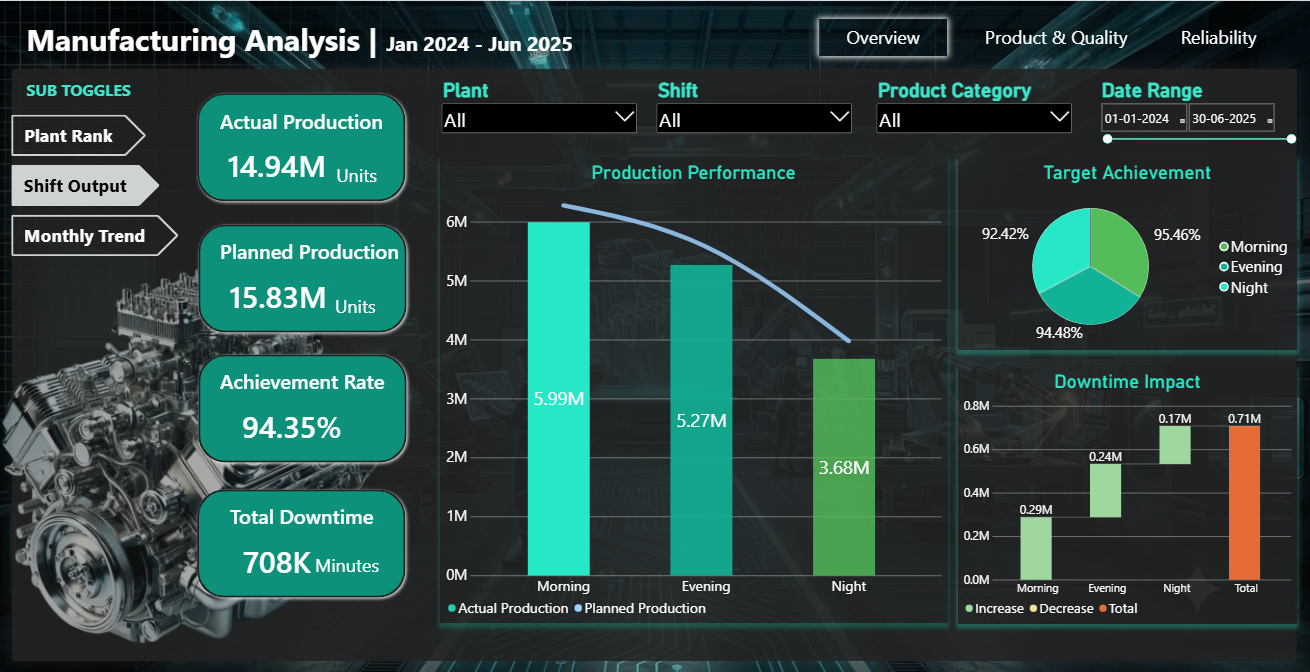

What the dashboard file says about the page in this screenshot:
{"tool":"powerbi","page":{"name":"Overview","canvas":[3500,1800],"ordinal":1},"visuals":[{"type":"textbox","box":[70,46.7,1483.3,133.3],"z":0},{"type":"shape","box":[30,180,3430,1580],"z":1000},{"type":"actionButton","title":"Overview on","box":[2183.3,46.7,343.3,100],"z":3000},{"type":"actionButton","title":"pro & qua off","box":[2553.3,46.7,526.7,100],"z":5000},{"type":"actionButton","title":"reliability off","box":[3080,46.7,340,100],"z":7000},{"type":"textbox","box":[70,206.7,320,96.7],"z":8000},{"type":"actionButton","title":"Plank rank off","box":[30,303.3,360,110],"z":10000},{"type":"actionButton","title":"Shift output off","box":[30,436.7,396.7,110],"z":12000},{"type":"image","box":[0,626.7,1023.3,1173.3],"z":13000},{"type":"actionButton","title":"Monthly trend on","box":[30,570,446.7,110],"z":14000},{"type":"shape","box":[517.3,582,580,313.3],"z":16000},{"type":"textbox","box":[587.3,628.7,510,80],"z":17000},{"type":"cardVisual","fields":{"Data":["production measures.Planned Production"]},"box":[587.3,708.7,310,150],"z":18000},{"type":"textbox","box":[893.3,780,253.3,80],"z":19000},{"type":"shape","box":[517.3,931.3,580,313.3],"z":20000},{"type":"textbox","box":[587.3,978,510,80],"z":21000},{"type":"cardVisual","fields":{"Data":["production measures.Achievement Rate"]},"box":[586.7,1056.7,383.3,150],"z":22000},{"type":"shape","box":[514.7,1288.7,580,313.3],"z":23000},{"type":"textbox","box":[613.3,1336.7,510,80],"z":24000},{"type":"cardVisual","fields":{"Data":["downtime_measures.Total Downtime Minutes"]},"box":[584.7,1415.3,310,150],"z":25000},{"type":"textbox","box":[841.3,1468.7,253.3,80],"z":26000},{"type":"shape","box":[513.3,233.3,580,313.3],"z":27000},{"type":"textbox","box":[586.7,283.3,480,80],"z":28000},{"type":"cardVisual","fields":{"Data":["production measures.Actual Production"]},"box":[563.3,360,350,150],"z":29000},{"type":"textbox","box":[896.7,430,253.3,80],"z":30000},{"type":"slicer","title":"Plant Slicer","fields":{"Values":["plants.plant_name"]},"box":[1173.3,206.7,530,153.3],"z":31000},{"type":"slicer","title":"Shift Slicer","fields":{"Values":["shifts.shift_name"]},"box":[1746.7,206.7,530,153.3],"z":32000},{"type":"slicer","title":"Product Slicer","fields":{"Values":["products.product_category"]},"box":[2333.3,206.7,530,153.3],"z":33000},{"type":"slicer","title":"Date Slicer","fields":{"Values":["production_records.production_date"]},"box":[2930,206.7,530,223.3],"z":34000},{"type":"lineChart","title":"Monthly Production Performance","fields":{"Y":["production measures.Actual Production","production measures.Planned Production"],"Category":["production_records.Month Date.Variation.Date Hierarchy.Year","production_records.Month Date.Variation.Date Hierarchy.Month"]},"box":[1150,470,2270,1190],"z":41000}]}

Visuals, with their boxes in screenshot pixels (x1, y1, x2, y2), scaled from the page's 3500x1800 canvas onto the 1310x672 screenshot:
textbox: select_region(26, 17, 581, 67)
shape: select_region(11, 67, 1295, 657)
"Overview on" actionButton: select_region(817, 17, 946, 55)
"pro & qua off" actionButton: select_region(956, 17, 1153, 55)
"reliability off" actionButton: select_region(1153, 17, 1280, 55)
textbox: select_region(26, 77, 146, 113)
"Plank rank off" actionButton: select_region(11, 113, 146, 154)
"Shift output off" actionButton: select_region(11, 163, 160, 204)
image: select_region(0, 234, 383, 671)
"Monthly trend on" actionButton: select_region(11, 213, 178, 254)
shape: select_region(194, 217, 411, 334)
textbox: select_region(220, 235, 411, 265)
cardVisual - production measures.Planned Production: select_region(220, 265, 336, 321)
textbox: select_region(334, 291, 429, 321)
shape: select_region(194, 348, 411, 465)
textbox: select_region(220, 365, 411, 395)
cardVisual - production measures.Achievement Rate: select_region(220, 395, 363, 451)
shape: select_region(193, 481, 410, 598)
textbox: select_region(230, 499, 420, 529)
cardVisual - downtime_measures.Total Downtime Minutes: select_region(219, 528, 335, 584)
textbox: select_region(315, 548, 410, 578)
shape: select_region(192, 87, 409, 204)
textbox: select_region(220, 106, 399, 136)
cardVisual - production measures.Actual Production: select_region(211, 134, 342, 190)
textbox: select_region(336, 161, 430, 190)
"Plant Slicer" slicer: select_region(439, 77, 638, 134)
"Shift Slicer" slicer: select_region(654, 77, 852, 134)
"Product Slicer" slicer: select_region(873, 77, 1072, 134)
"Date Slicer" slicer: select_region(1097, 77, 1295, 161)
"Monthly Production Performance" lineChart: select_region(430, 175, 1280, 620)
